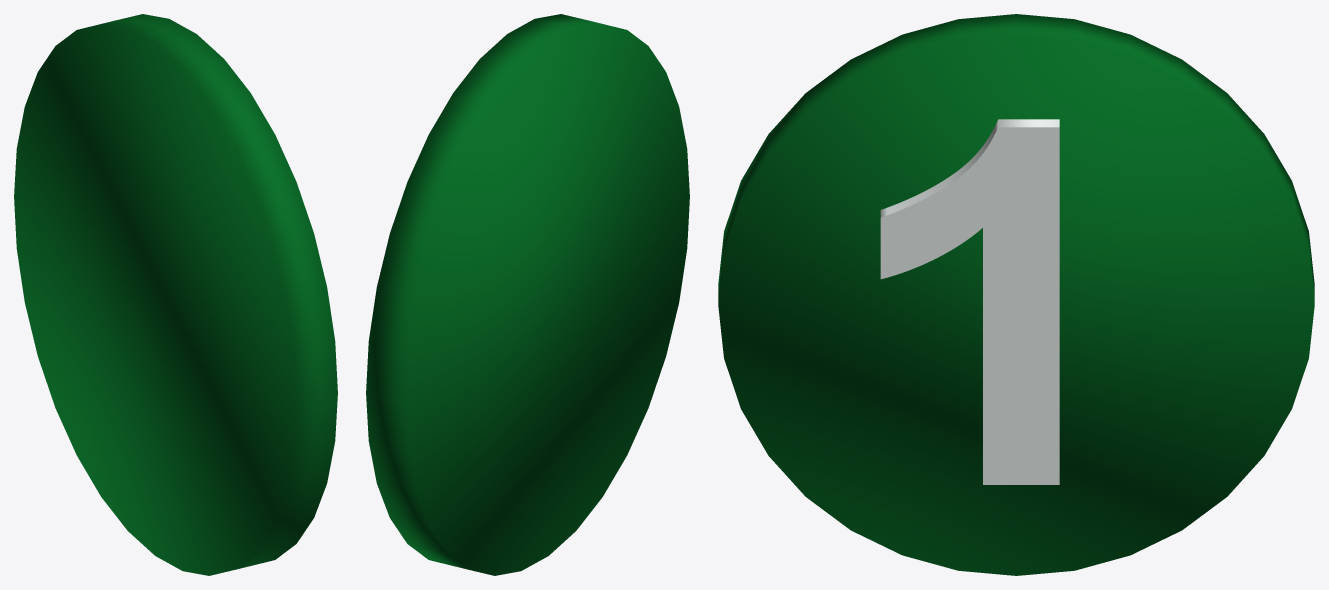
Rendered from StageNumber_1.fbx.
3 renders of one model, left to right at view 1: azimuth 30°, elevation 25°; view 2: azimuth 150°, elevation 25°; view 3: azimuth 270°, elevation 25°, orthographic. The views are drawn at different scales.
Visible parts, largest first — view 1: 1; view 2: 1; view 3: 1.
Boxes of the visible parts, x1,y1,x2,y2 form: 1: (14, 14, 337, 575); 1: (366, 14, 689, 575); 1: (718, 14, 1314, 575).
Bounding box in the file's own units: 10.88 × 94 × 94.
